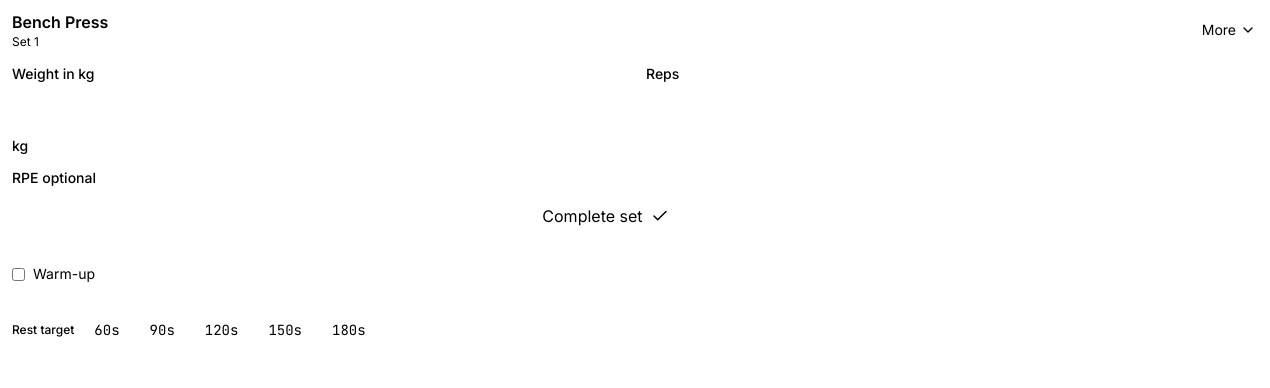
per-exercise rest target consumer wiring › does not claim a durable save when storage rejects the write
Click the radio button labelled "60s" at (107, 330), box [82, 308, 132, 352]
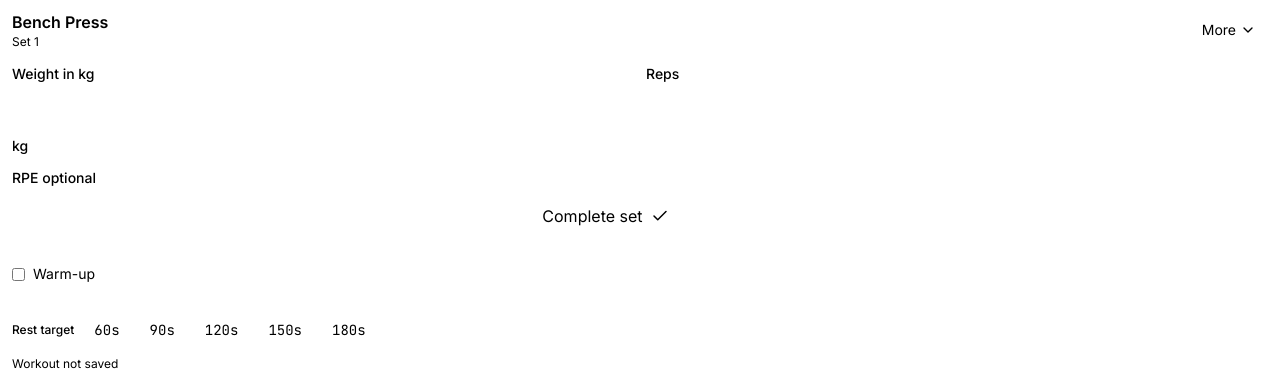
Now the text "Workout not saved" is shown, box [12, 356, 118, 371]
